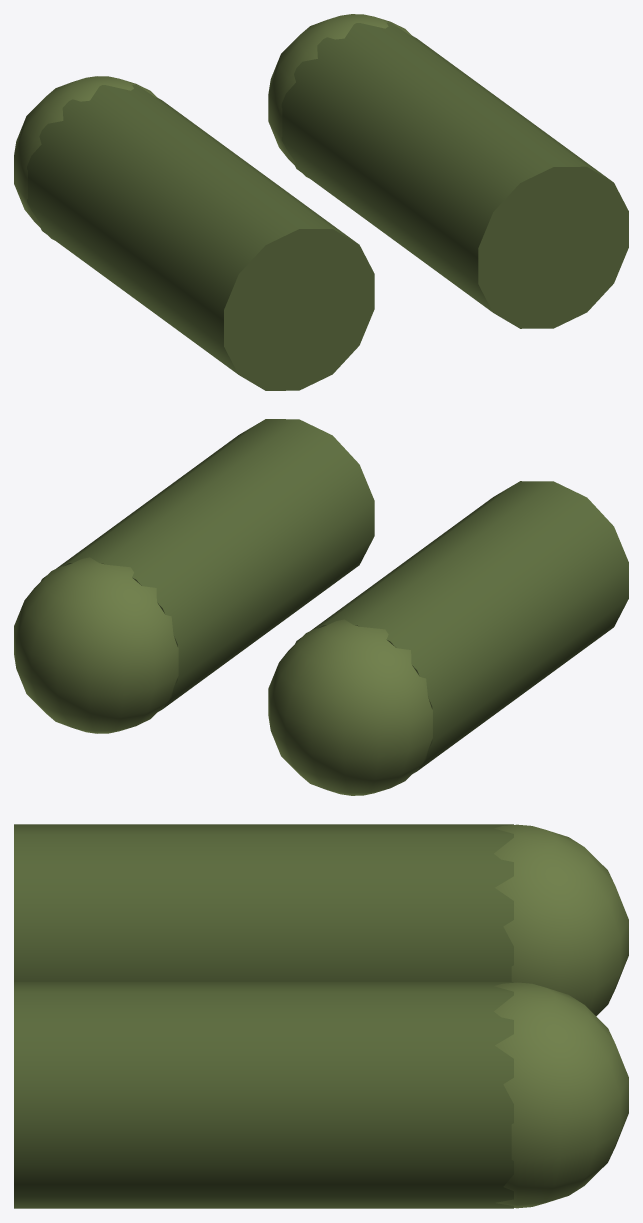
The model's file is payload.glb.
3 renders of one model, top to bottom at view 1: azimuth 30°, elevation 25°; view 2: azimuth 150°, elevation 25°; view 3: azimuth 270°, elevation 25°, orthographic. The views are drawn at different scales.
Parts seen in each view (by area): view 1: _MeshInstance3D_201, _MeshInstance3D_199, _MeshInstance3D_202, _MeshInstance3D_200; view 2: _MeshInstance3D_201, _MeshInstance3D_199, _MeshInstance3D_200, _MeshInstance3D_202; view 3: _MeshInstance3D_201, _MeshInstance3D_199, _MeshInstance3D_202, _MeshInstance3D_200.
Part boxes in pixels (x1,y1,x2,y2): _MeshInstance3D_201: [281, 22, 628, 328]; _MeshInstance3D_199: [27, 85, 374, 390]; _MeshInstance3D_202: [268, 14, 411, 177]; _MeshInstance3D_200: [14, 76, 156, 240]; _MeshInstance3D_201: [41, 419, 374, 711]; _MeshInstance3D_199: [295, 481, 628, 773]; _MeshInstance3D_200: [268, 619, 432, 795]; _MeshInstance3D_202: [14, 557, 178, 733]; _MeshInstance3D_201: [14, 982, 513, 1208]; _MeshInstance3D_199: [14, 824, 513, 981]; _MeshInstance3D_202: [494, 982, 628, 1208]; _MeshInstance3D_200: [494, 824, 628, 1016].
Size of the model in its own units: 0.8948 by 0.34 by 0.9224.
